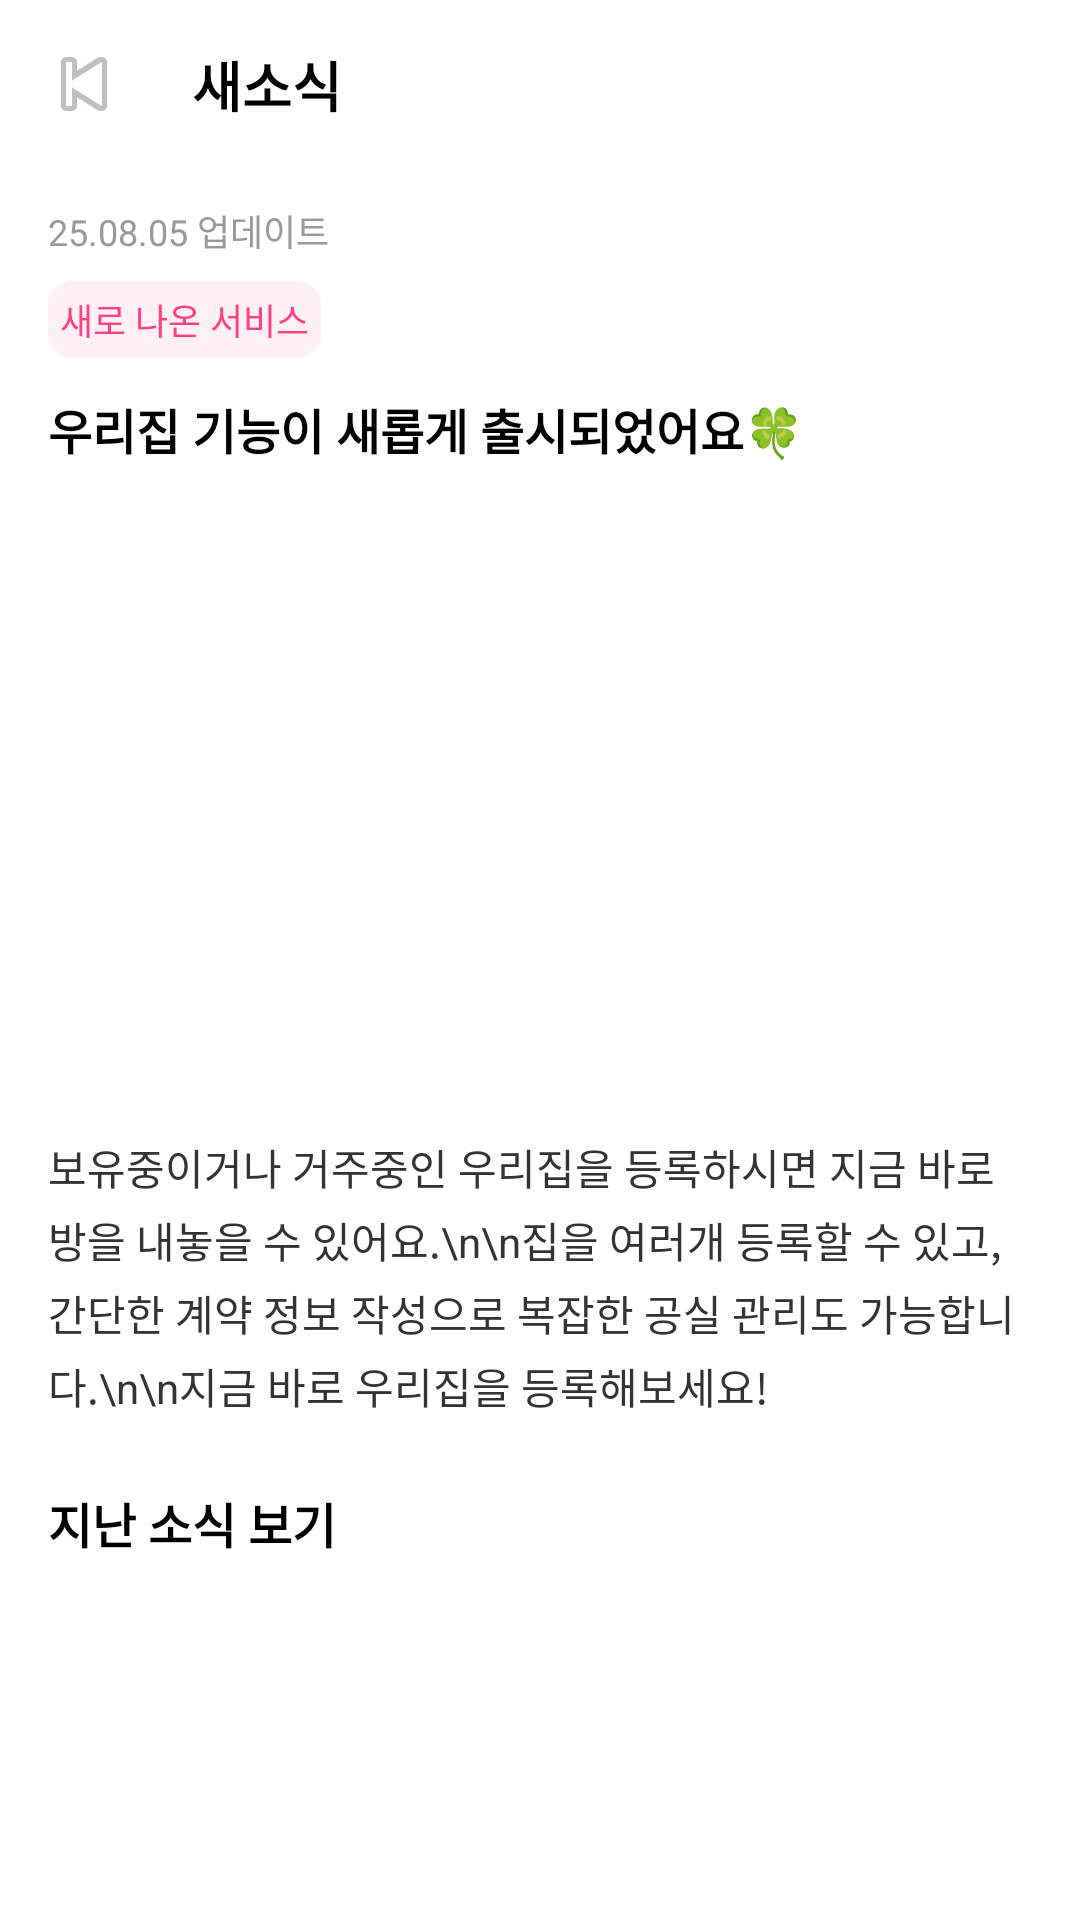

Icons on this 1080*1920 Android screen, each with the point to tap as [x,y]:
뒤로가기: [84,84]
